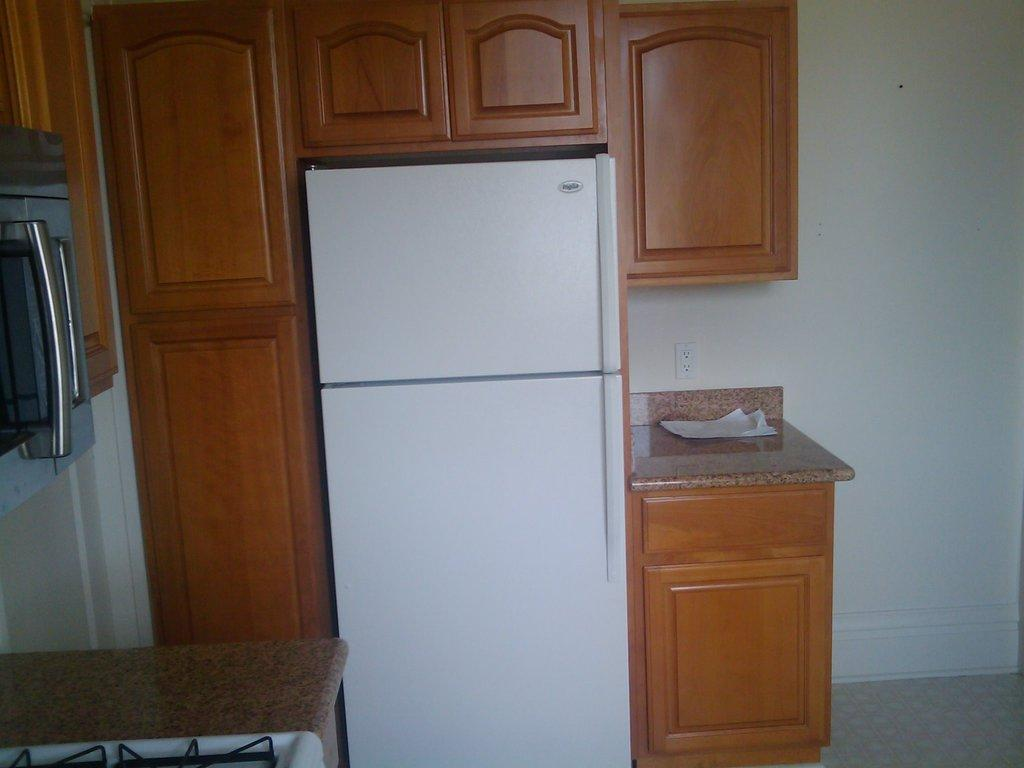cabinet_door: (146, 328, 316, 638), (118, 24, 278, 294), (622, 20, 788, 262), (648, 563, 824, 740), (456, 15, 596, 143), (296, 26, 450, 140)
handle: (20, 218, 75, 452), (586, 160, 628, 372), (596, 371, 623, 572)
